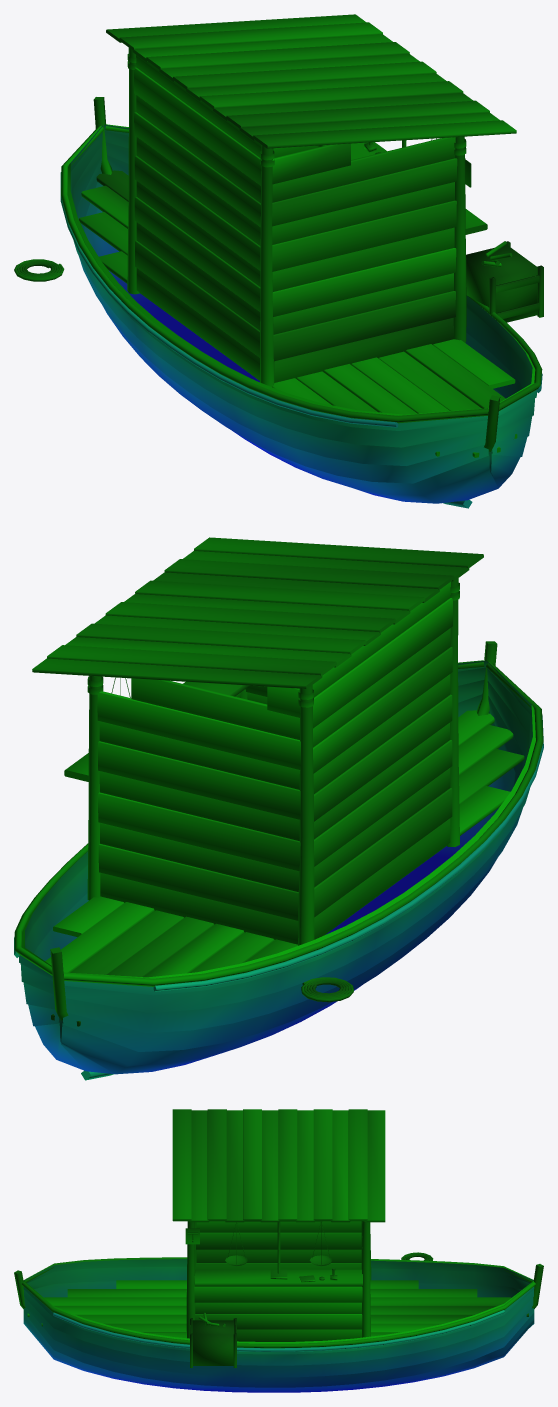
The model's file is scale_hull.glb.
3 views of the same model, one above another, from view 1: azimuth 30°, elevation 25°; view 2: azimuth 150°, elevation 25°; view 3: azimuth 270°, elevation 25° (orthographic). The views are drawn at different scales.
Visible parts, largest first — view 1: scale_hull; view 2: scale_hull; view 3: scale_hull.
Part boxes in pixels (<box>): scale_hull: <box>14,14,543,508</box>; scale_hull: <box>14,537,543,1080</box>; scale_hull: <box>14,1109,543,1392</box>.
Size of what is drawn, in the model's own units: 3.7 by 3.59 by 7.27.
